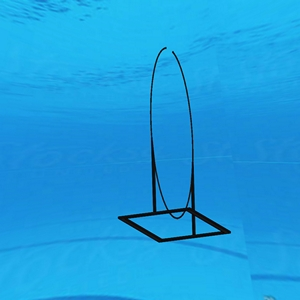circle: (116, 44, 233, 246)
